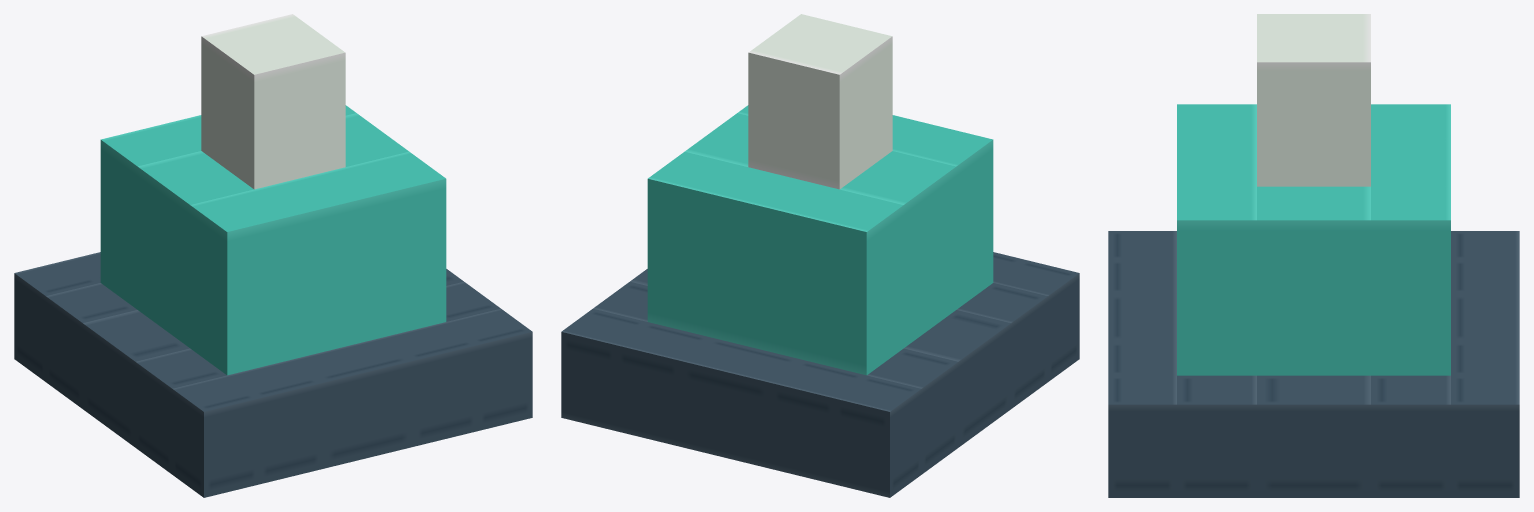
File: sc_pickup_electroshield.obj
3 renders of one model, left to right at view 1: azimuth 30°, elevation 25°; view 2: azimuth 150°, elevation 25°; view 3: azimuth 270°, elevation 25°, orthographic. The views are drawn at different scales.
Bounding box in the file's own units: 5.4 × 5.4 × 5.4.
1 material, 1 textured.
